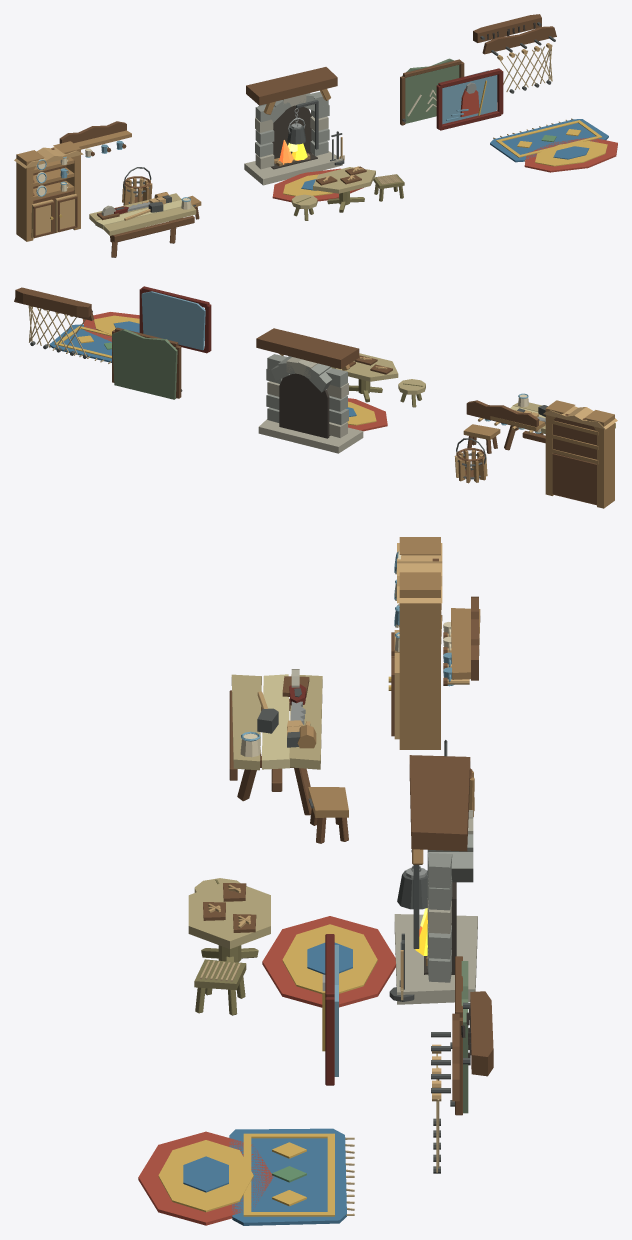
Rendered from workyard_upstairs_furnishings_v1.glb.
3 views of the same model, one above another, from view 1: azimuth 30°, elevation 25°; view 2: azimuth 150°, elevation 25°; view 3: azimuth 270°, elevation 25° (orthographic). The views are drawn at different scales.
Visible parts, largest first — view 1: teaching_fireplaceRuntimeMesh, workyard_crockery_hutchRuntimeMesh, tool_benchRuntimeMesh, workyard_storm_warden_reliefRuntimeMesh, firemaking_boardRuntimeMesh, workyard_lodge_rugRuntimeMesh, workyard_hearth_rugRuntimeMesh.001, net_rackRuntimeMesh, workyard_lesson_tableRuntimeMesh, workyard_mug_shelfRuntimeMesh, workyard_hearth_rugRuntimeMesh, storm_tally_beamRuntimeMesh (+4 smaller); view 2: teaching_fireplaceRuntimeMesh, workyard_crockery_hutchRuntimeMesh, firemaking_boardRuntimeMesh, workyard_storm_warden_reliefRuntimeMesh, workyard_lodge_rugRuntimeMesh, workyard_lesson_tableRuntimeMesh, workyard_mug_shelfRuntimeMesh, storm_tally_beamRuntimeMesh, net_rackRuntimeMesh, workyard_empty_bucketRuntimeMesh, workyard_hearth_rugRuntimeMesh.001, workyard_hearth_rugRuntimeMesh (+3 smaller); view 3: teaching_fireplaceRuntimeMesh, workyard_lodge_rugRuntimeMesh, workyard_crockery_hutchRuntimeMesh, tool_benchRuntimeMesh, workyard_hearth_rugRuntimeMesh.001, workyard_hearth_rugRuntimeMesh, workyard_lesson_tableRuntimeMesh, workyard_mug_shelfRuntimeMesh, workyard_storm_warden_reliefRuntimeMesh, storm_tally_beamRuntimeMesh, net_rackRuntimeMesh, workyard_hearth_stool_wovenRuntimeMesh (+2 smaller).
Part boxes in pixels (x1,y1,x2,y2): teaching_fireplaceRuntimeMesh: [244, 67, 344, 185]; workyard_crockery_hutchRuntimeMesh: [14, 141, 83, 241]; tool_benchRuntimeMesh: [89, 192, 196, 257]; workyard_storm_warden_reliefRuntimeMesh: [436, 68, 503, 130]; firemaking_boardRuntimeMesh: [400, 58, 464, 125]; workyard_lodge_rugRuntimeMesh: [490, 118, 608, 162]; workyard_hearth_rugRuntimeMesh.001: [524, 137, 617, 172]; net_rackRuntimeMesh: [482, 26, 556, 93]; workyard_lesson_tableRuntimeMesh: [313, 166, 375, 212]; workyard_mug_shelfRuntimeMesh: [59, 121, 131, 157]; workyard_hearth_rugRuntimeMesh: [272, 168, 363, 202]; storm_tally_beamRuntimeMesh: [473, 14, 541, 42]; teaching_fireplaceRuntimeMesh: [256, 328, 363, 453]; workyard_crockery_hutchRuntimeMesh: [543, 400, 617, 508]; firemaking_boardRuntimeMesh: [112, 327, 182, 399]; workyard_storm_warden_reliefRuntimeMesh: [139, 286, 211, 353]; workyard_lodge_rugRuntimeMesh: [49, 324, 111, 363]; workyard_lesson_tableRuntimeMesh: [333, 353, 398, 402]; workyard_mug_shelfRuntimeMesh: [466, 400, 545, 433]; storm_tally_beamRuntimeMesh: [15, 287, 91, 317]; net_rackRuntimeMesh: [14, 298, 93, 358]; workyard_empty_bucketRuntimeMesh: [454, 438, 487, 483]; workyard_hearth_rugRuntimeMesh.001: [83, 312, 139, 341]; workyard_hearth_rugRuntimeMesh: [346, 398, 387, 431]; teaching_fireplaceRuntimeMesh: [389, 755, 477, 1004]; workyard_lodge_rugRuntimeMesh: [229, 1128, 354, 1225]; workyard_crockery_hutchRuntimeMesh: [388, 537, 442, 749]; tool_benchRuntimeMesh: [229, 669, 322, 815]; workyard_hearth_rugRuntimeMesh.001: [138, 1131, 273, 1225]; workyard_hearth_rugRuntimeMesh: [262, 916, 395, 1007]; workyard_lesson_tableRuntimeMesh: [188, 880, 270, 962]; workyard_mug_shelfRuntimeMesh: [443, 596, 480, 686]; workyard_storm_warden_reliefRuntimeMesh: [322, 934, 338, 1085]; storm_tally_beamRuntimeMesh: [461, 991, 493, 1076]; net_rackRuntimeMesh: [431, 1013, 459, 1173]; workyard_hearth_stool_wovenRuntimeMesh: [194, 959, 246, 1015].
Size of the model in its own units: 20.12 by 3.02 by 5.67.
